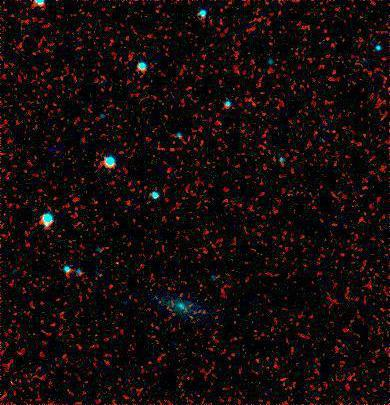star: (33, 217, 63, 247)
